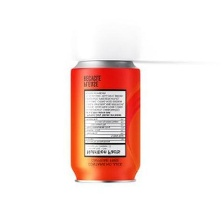can: (60, 51, 145, 187)
